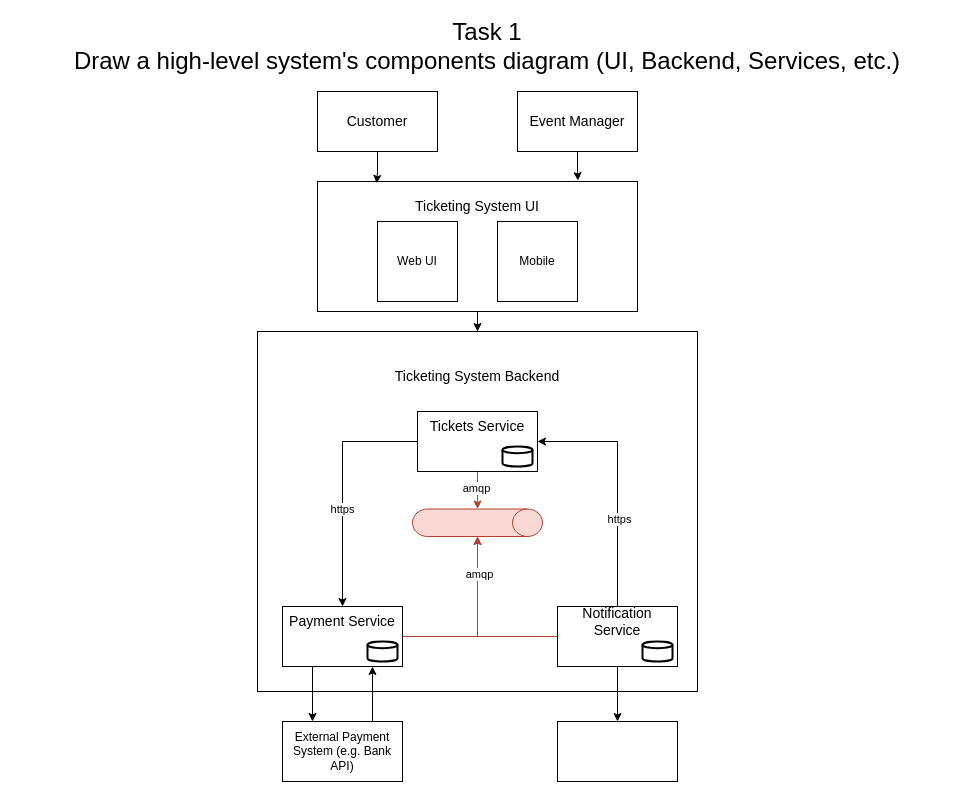
Some shapes in this 974 by 799 pixel diagram are drawn without their labels. Each missing label, with the centre of its shape:
External Notification System (e.g. Firebase API): the point at 617,751
Queue: the point at 477,522
